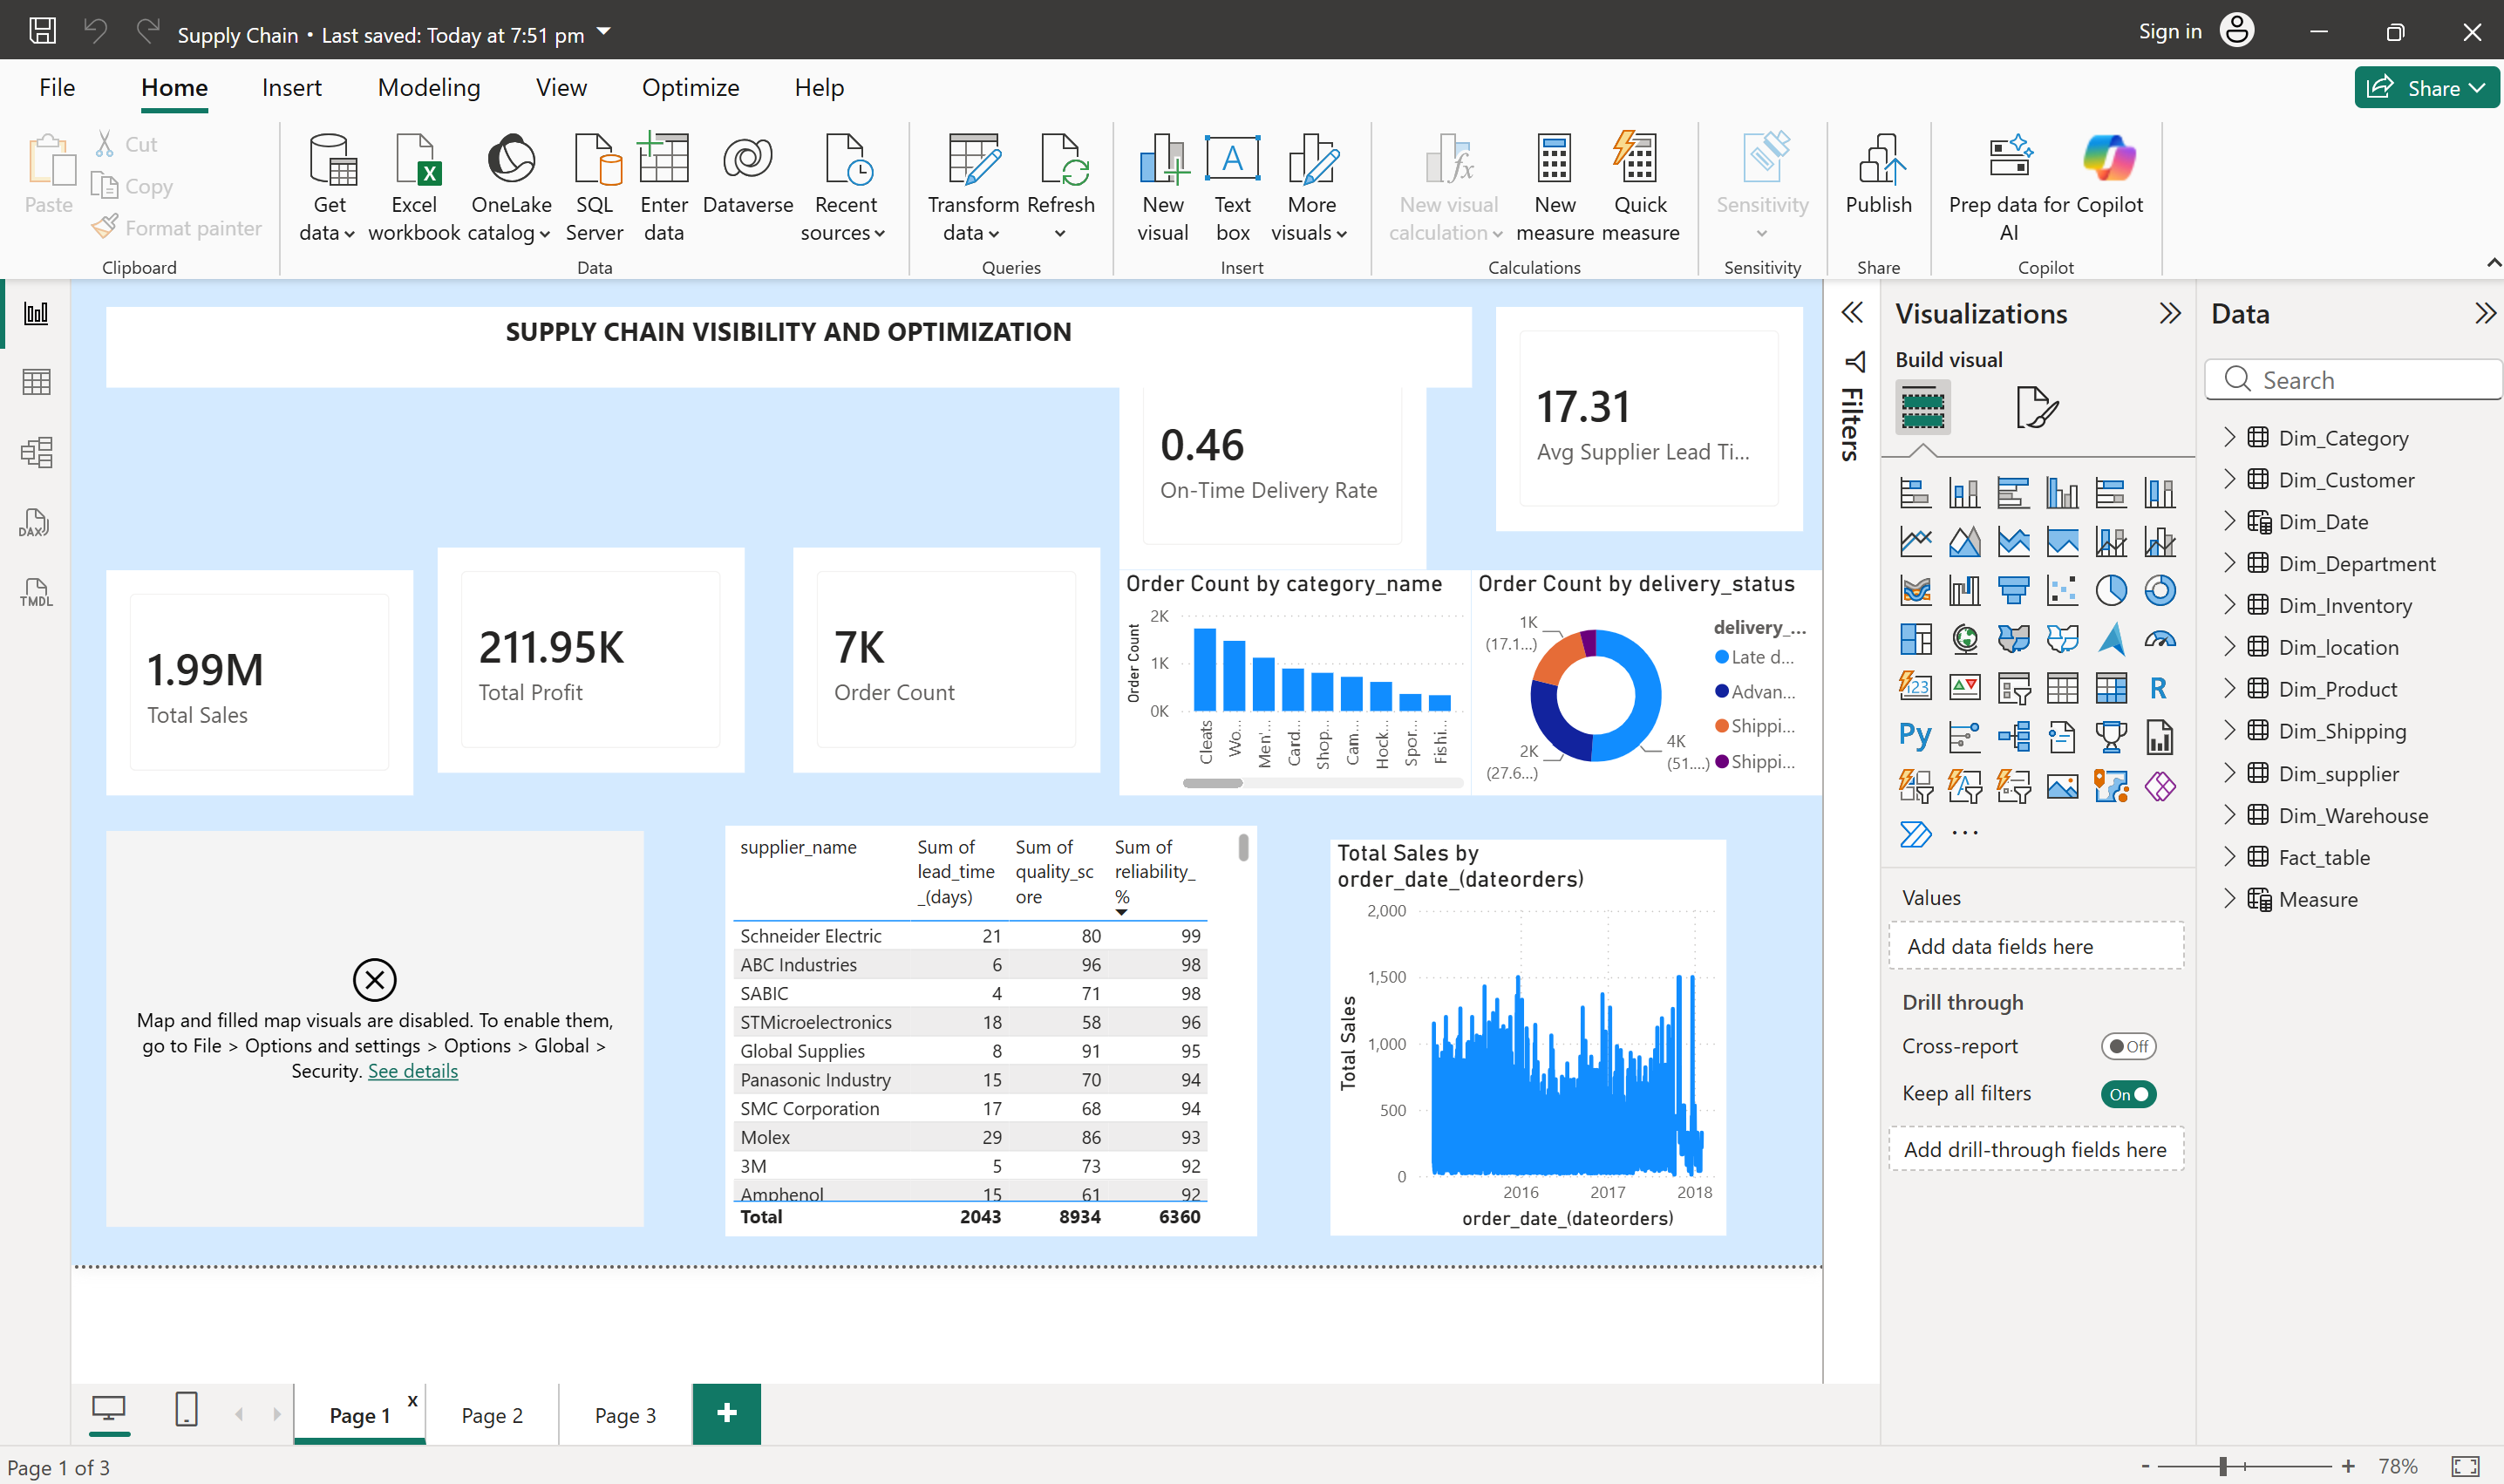

Layout of this report page (visuals, bound fields, positions):
{"tool":"powerbi","page":{"name":"Page 1","canvas":[1280,720],"ordinal":0},"visuals":[{"type":"cardVisual","fields":{"Data":["Measure.Total Sales1"]},"box":[25.1,212.7,224.5,163.9],"z":0},{"type":"cardVisual","fields":{"Data":["Measure.Total Profit1"]},"box":[267.3,196.4,224.5,163.9],"z":1000},{"type":"cardVisual","fields":{"Data":["Measure.Order Count"]},"box":[527.3,196.4,224.5,163.9],"z":2000},{"type":"cardVisual","fields":{"Data":["Measure.On-Time Delivery Rate1"]},"box":[766.5,48.7,224.5,163.9],"z":3000},{"type":"cardVisual","fields":{"Data":["Measure.Avg Supplier Lead Time1"]},"box":[1041.2,20.7,224.5,163.9],"z":4000},{"type":"lineChart","fields":{"Category":["Fact_table.order_date_(dateorders)"],"Y":["Measure.Total Sales"]},"box":[920.1,409.1,289.5,289.5],"z":5000},{"type":"filledMap","fields":{"Category":["Fact_table.order_region Hierarchy.order_region","Fact_table.order_region Hierarchy.order_country","Fact_table.order_region Hierarchy.order_state","Fact_table.order_region Hierarchy.order_city"],"Series":["Fact_table.order_region Hierarchy.order_region"]},"box":[25.1,403.2,392.9,289.5],"z":6000},{"type":"tableEx","fields":{"Values":["Dim_supplier.supplier_name","Sum(Dim_supplier.lead_time_(days))","Sum(Dim_supplier.quality_score)","Sum(Dim_supplier.reliability_%)"]},"box":[478.5,398.8,388.4,299.8],"z":7000},{"type":"columnChart","fields":{"Category":["Fact_table.category_name"],"Y":["Measure.Order Count"]},"box":[766.5,212.7,257,163.9],"z":8000},{"type":"donutChart","fields":{"Category":["Dim_Shipping.delivery_status"],"Y":["Measure.Order Count"]},"box":[1023.5,212.7,257,163.9],"z":9000},{"type":"textbox","box":[25.1,20.7,998.4,59.1],"z":10000}]}

Visuals, with their boxes on the page's 1280x720 design canvas (x1, y1, x2, y2). These are canvas units, not pixel positions in the 2504x1484 screenshot, which may show the page scaled, cropped or inside an application window:
cardVisual - Measure.Total Sales1: pyautogui.locateOnScreen(25, 213, 250, 377)
cardVisual - Measure.Total Profit1: pyautogui.locateOnScreen(267, 196, 492, 360)
cardVisual - Measure.Order Count: pyautogui.locateOnScreen(527, 196, 752, 360)
cardVisual - Measure.On-Time Delivery Rate1: pyautogui.locateOnScreen(766, 49, 991, 213)
cardVisual - Measure.Avg Supplier Lead Time1: pyautogui.locateOnScreen(1041, 21, 1266, 185)
lineChart - Fact_table.order_date_(dateorders) x Measure.Total Sales: pyautogui.locateOnScreen(920, 409, 1210, 699)
filledMap - Fact_table.order_region Hierarchy.order_region x Fact_table.order_region Hierarchy.order_country: pyautogui.locateOnScreen(25, 403, 418, 693)
tableEx - Dim_supplier.supplier_name x Sum(Dim_supplier.lead_time_(days)): pyautogui.locateOnScreen(478, 399, 867, 699)
columnChart - Fact_table.category_name x Measure.Order Count: pyautogui.locateOnScreen(766, 213, 1024, 377)
donutChart - Dim_Shipping.delivery_status x Measure.Order Count: pyautogui.locateOnScreen(1024, 213, 1280, 377)
textbox: pyautogui.locateOnScreen(25, 21, 1024, 80)
